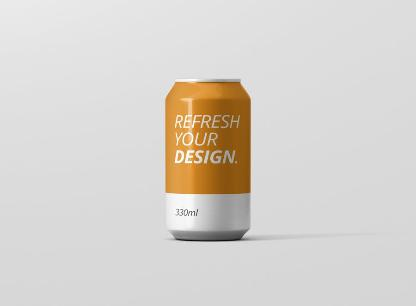Can: (166, 79, 250, 241)
